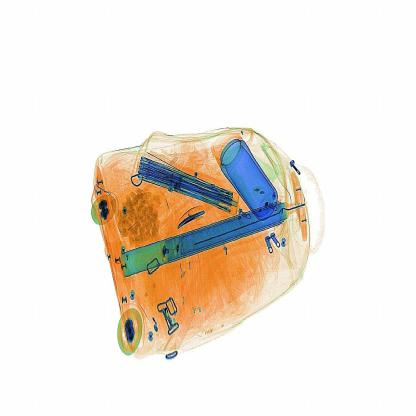pliers: (177, 201, 216, 233)
